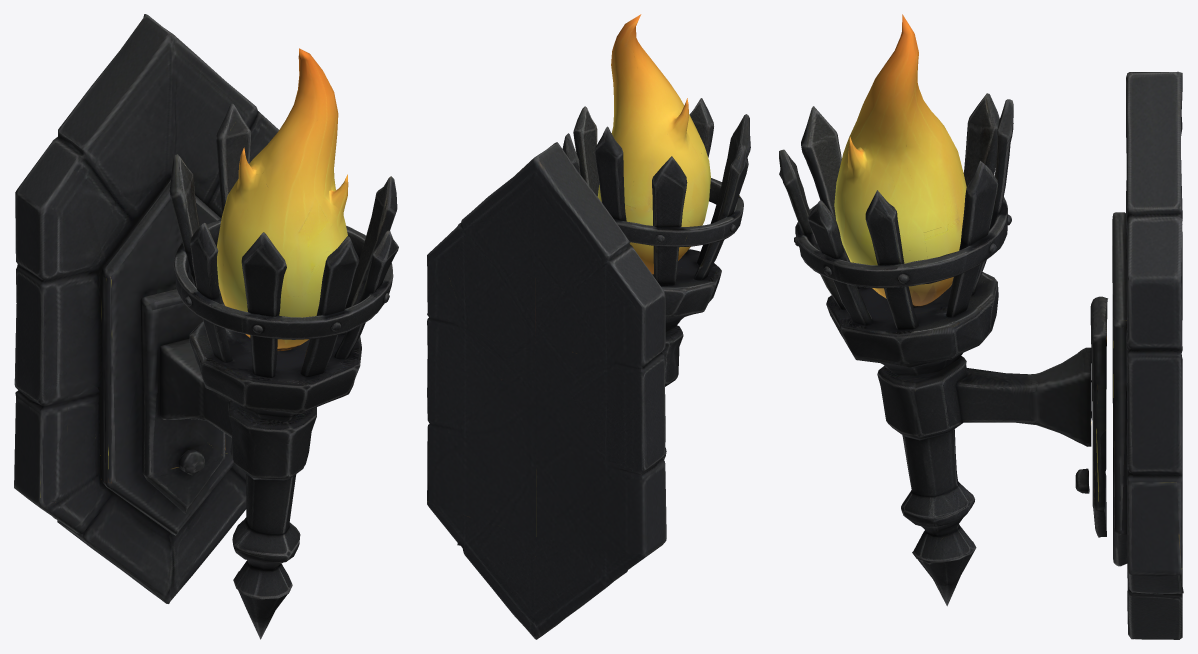
Rendered from wall_torch_emberstone.glb.
The picture shows the model from 3 angles, left to right: view 1: azimuth 30°, elevation 25°; view 2: azimuth 150°, elevation 25°; view 3: azimuth 270°, elevation 25°; orthographic projection. The views are drawn at different scales.
Visible parts, largest first — view 1: mesh_node; view 2: mesh_node; view 3: mesh_node.
Part boxes in pixels (x1,y1,x2,y2): mesh_node: (14, 14, 398, 639); mesh_node: (427, 14, 750, 639); mesh_node: (779, 14, 1183, 639).
Bounding box in the file's own units: 0.4268 × 1 × 0.5801.
1 material, 1 textured.
